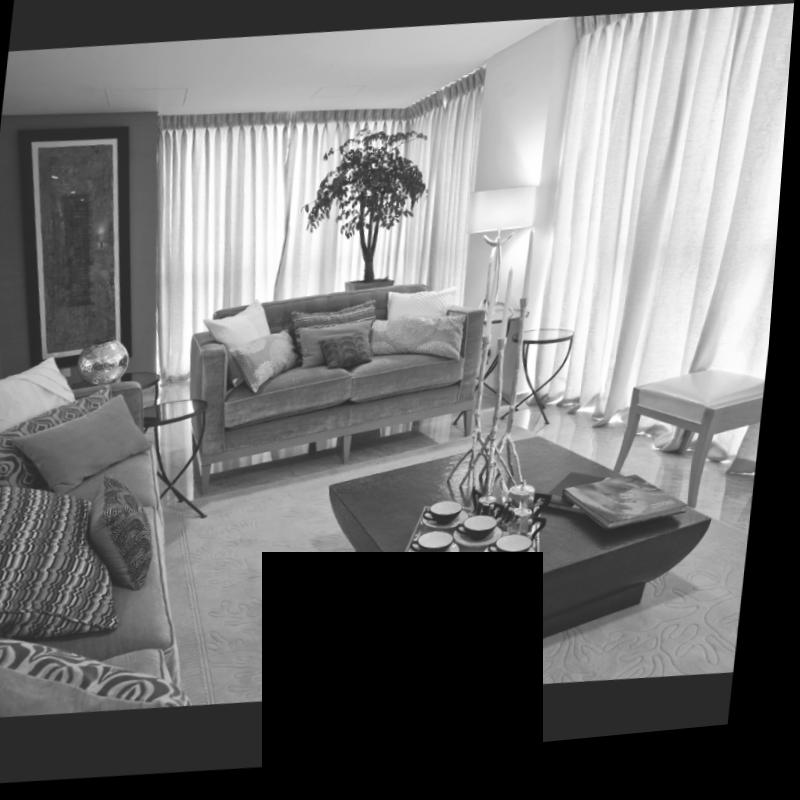pillow: (0, 360, 196, 651), (18, 387, 169, 503), (0, 390, 116, 499), (98, 472, 175, 599), (0, 351, 93, 449), (206, 301, 289, 396), (298, 303, 383, 372), (233, 331, 309, 399), (376, 320, 473, 372), (295, 322, 387, 376), (391, 295, 469, 326), (329, 338, 381, 375)
